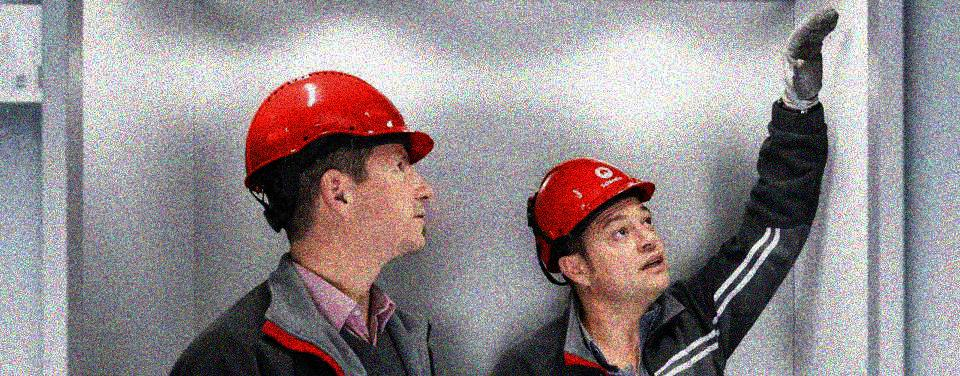helmet: (241, 68, 441, 266), (528, 159, 673, 297)
